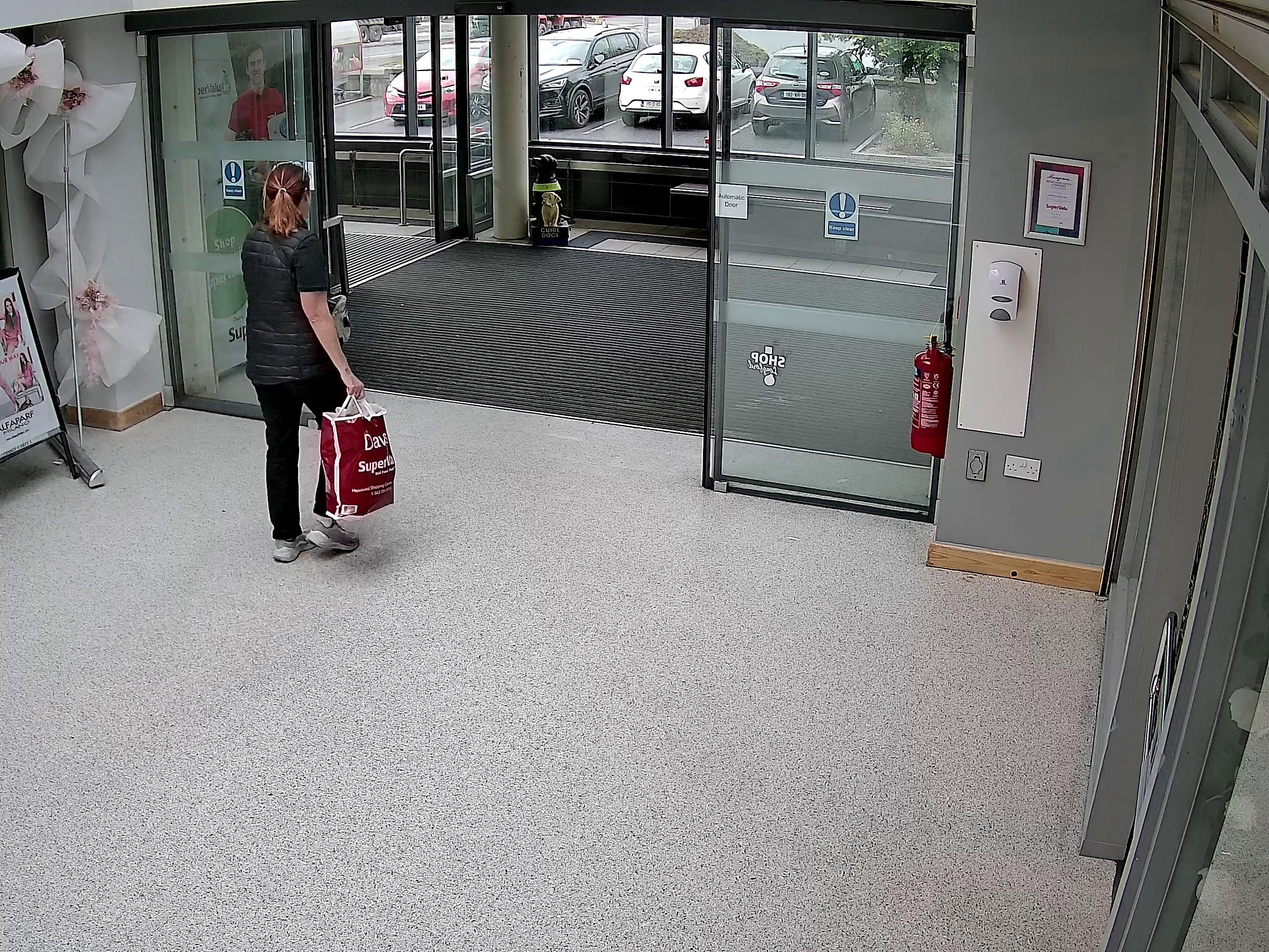filled-shopping-bags: (320, 395, 397, 519)
person: (240, 163, 364, 563)
person-with-filled-shopping-bag-s-: (241, 162, 398, 564)
